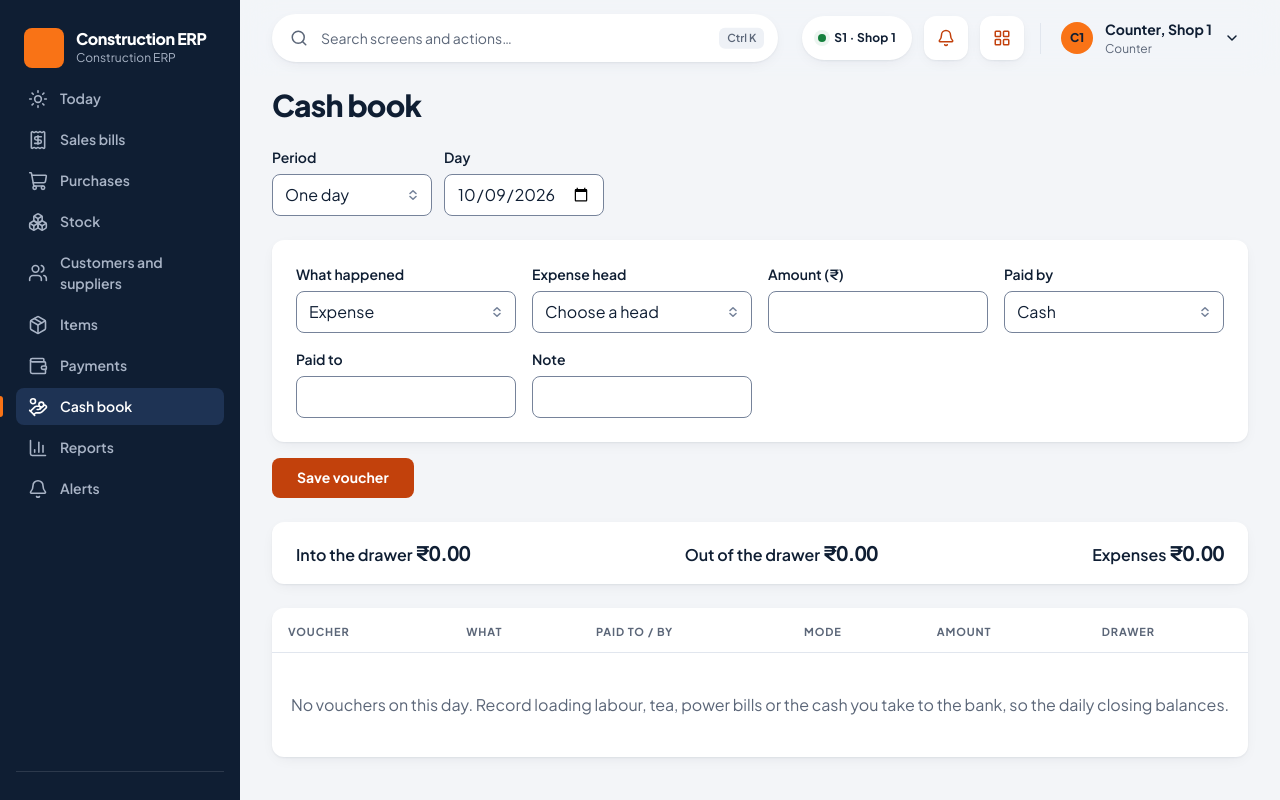
Test: Cash book › asks for the owner's PIN when an expense is above the limit
Select "Loading and unloading labour" in the dropdown labelled "Expense head" at [642, 312], box left=532, top=290, right=752, bottom=332
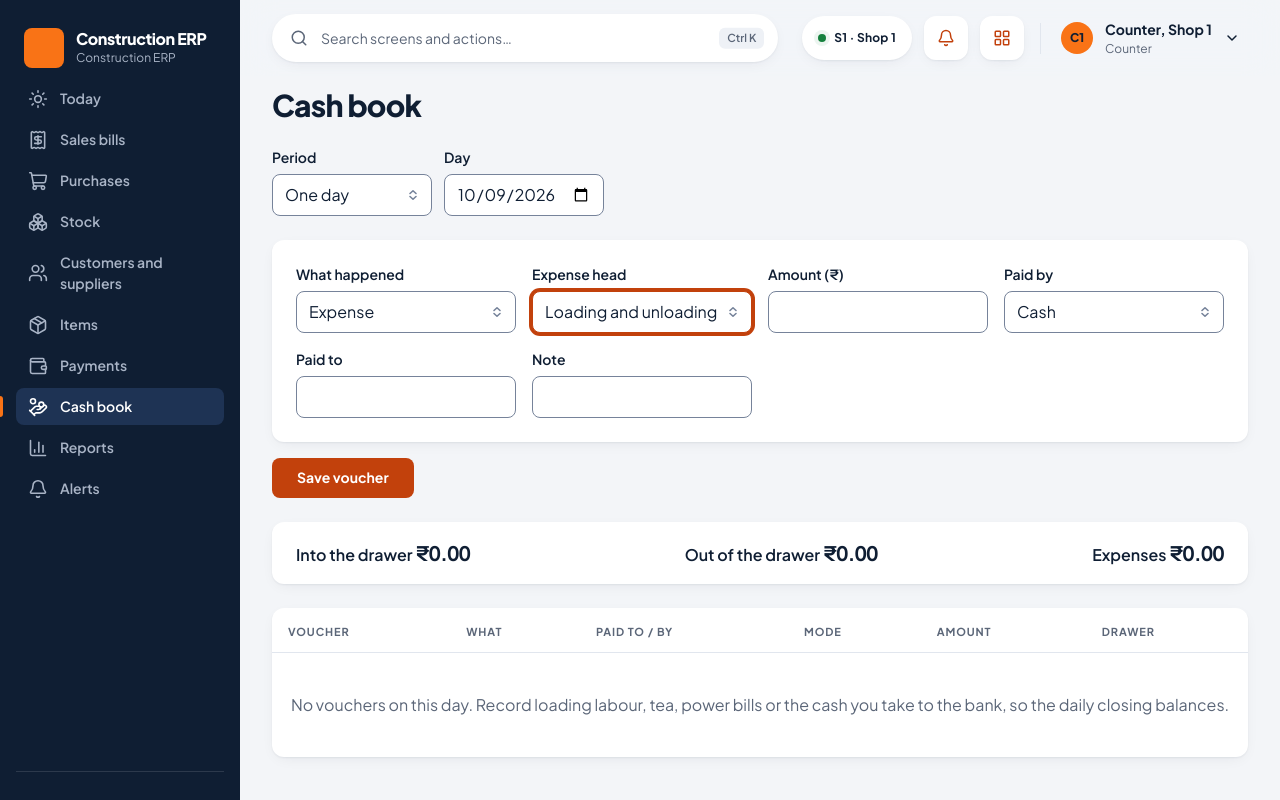
Type "6000" into the field labelled "Amount (₹)" at [878, 312], box left=768, top=290, right=988, bottom=332
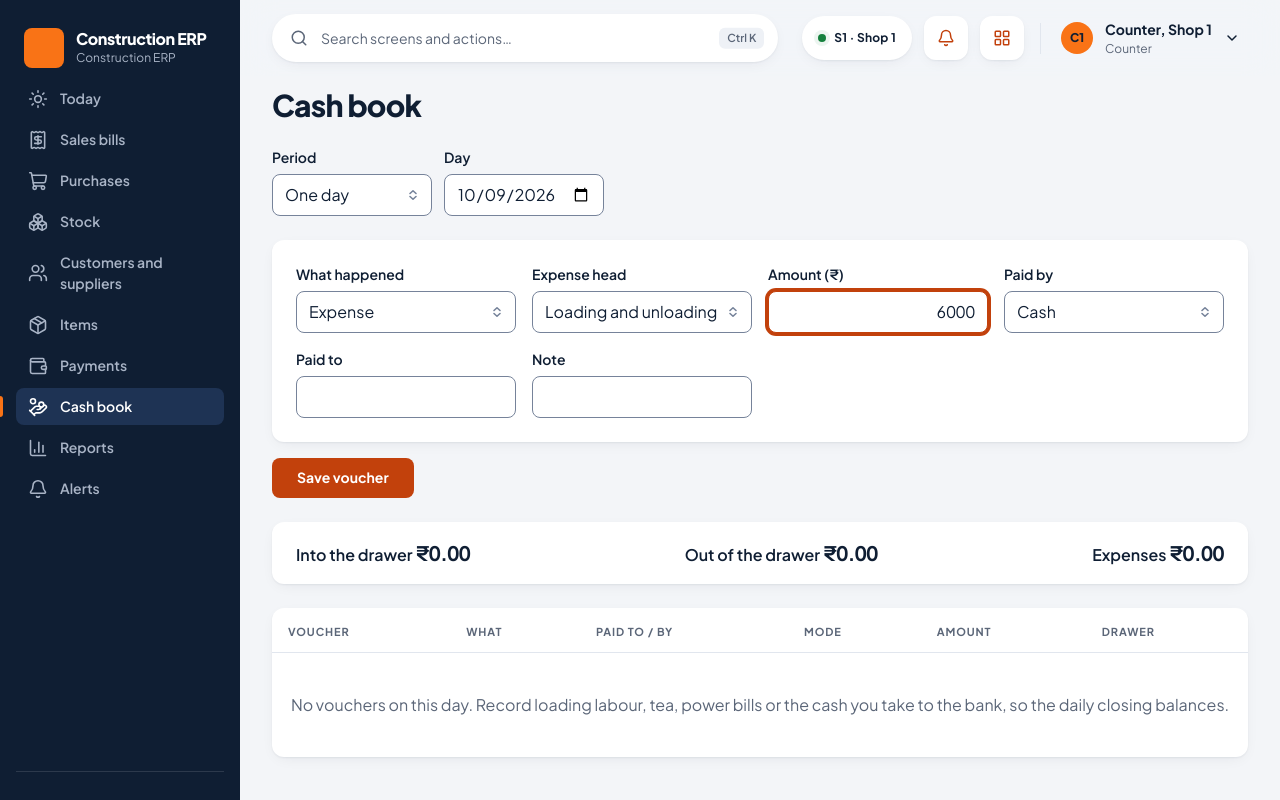
Click the button "Save voucher" at [343, 478], box left=272, top=458, right=414, bottom=498
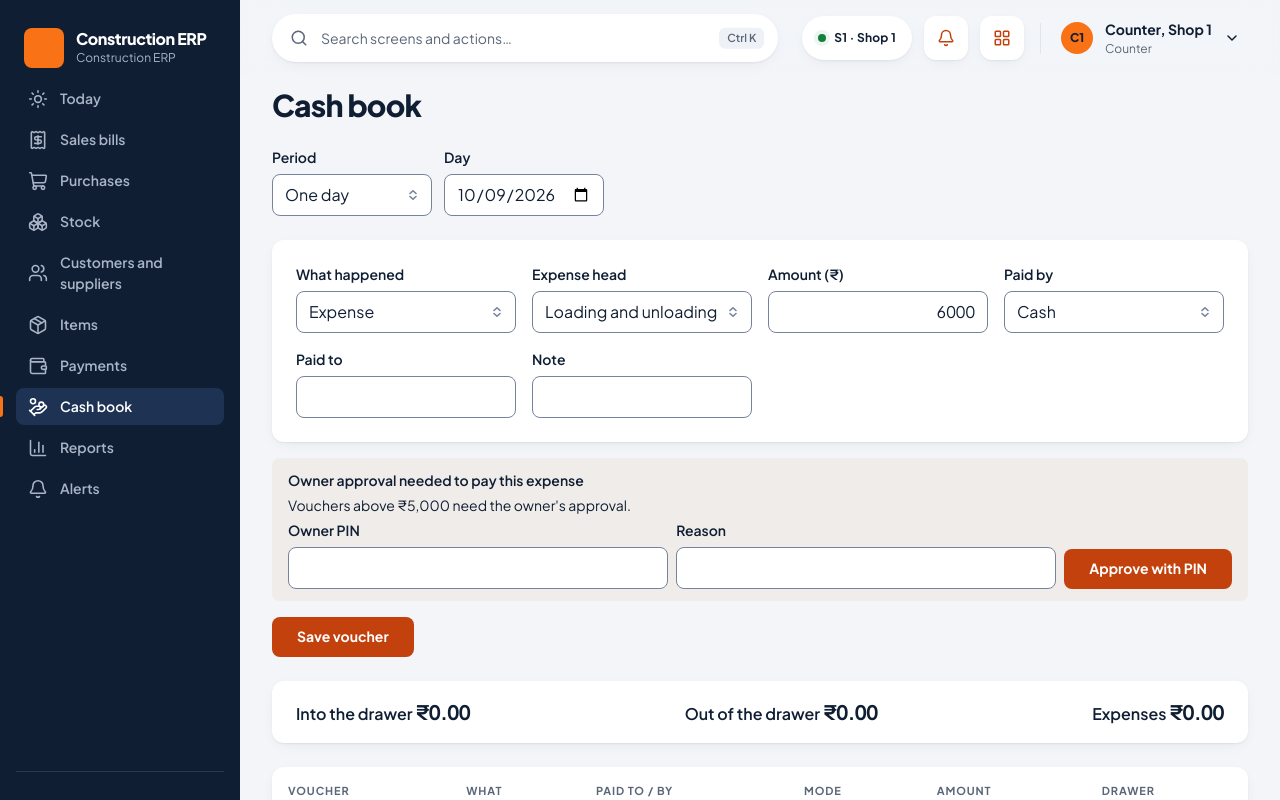
Now the text "Owner approval needed to pay this expense" is shown, box left=288, top=470, right=584, bottom=488
